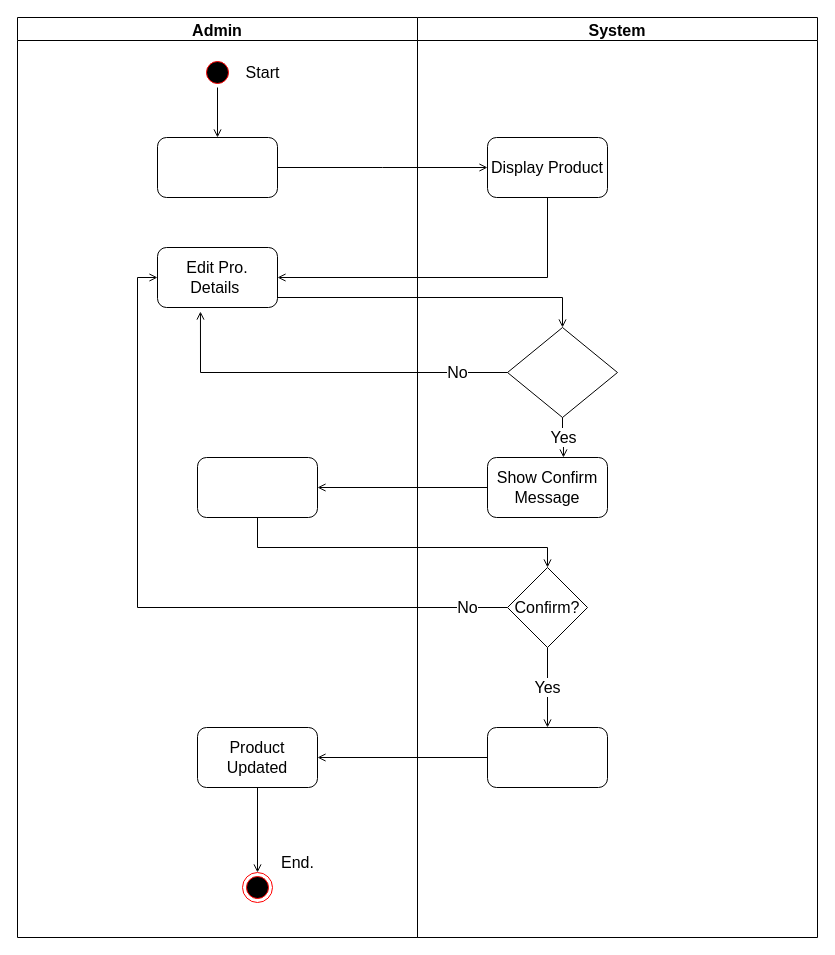
Image size: 835x955. Some labels were removed from this diagram. The centre of each missing label's shape, as x and y in pixels:
Give Input: [257,487]
Is Details Valid?: [562,372]
Search Product.: [217,167]
Update Product: [547,757]
